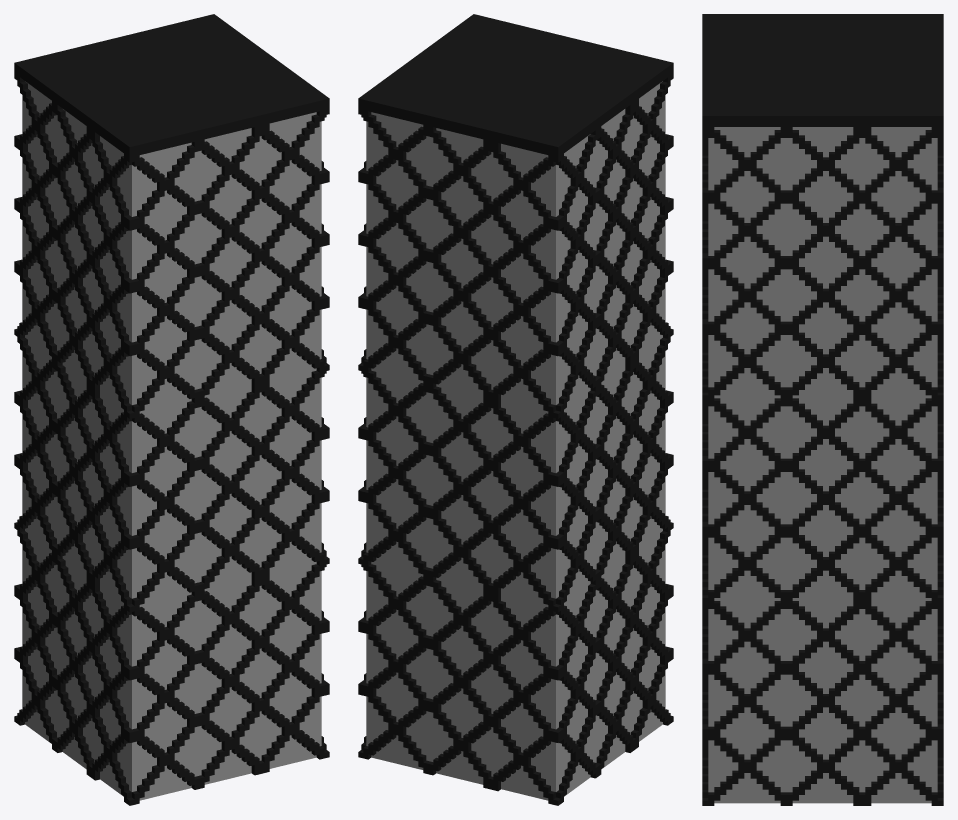
The model's file is TestTower.obj.
The picture shows the model from 3 angles, left to right: view 1: azimuth 30°, elevation 25°; view 2: azimuth 150°, elevation 25°; view 3: azimuth 270°, elevation 25°; orthographic projection. The views are drawn at different scales.
Size of the model in its own units: 4 by 12.6 by 4.
Materials: 1 (1 with a texture image).
